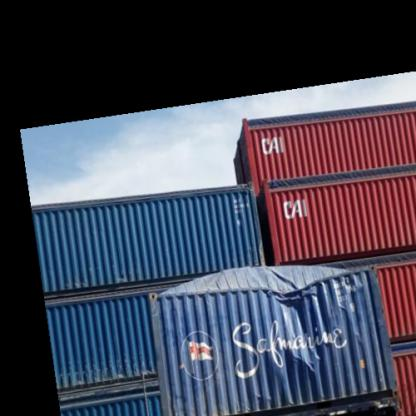Damage: (153, 266, 368, 384)
